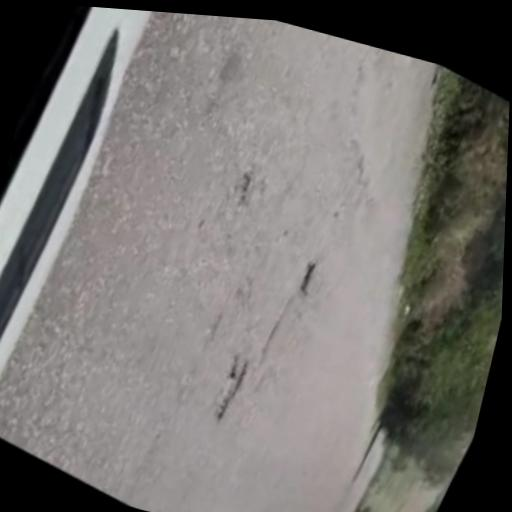pothole: (152, 147, 458, 439), (119, 178, 354, 512)
